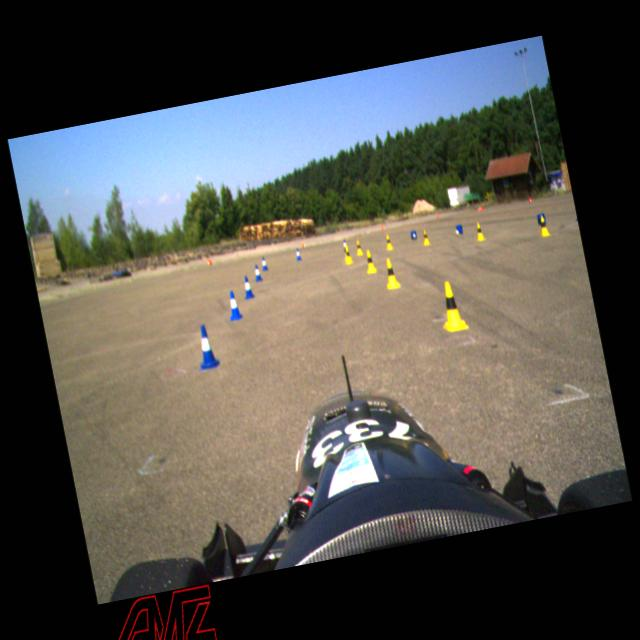blue_cone: (192, 322, 221, 370), (224, 289, 242, 321), (241, 274, 254, 298), (252, 263, 262, 281), (260, 256, 269, 271), (294, 248, 302, 262), (342, 239, 349, 253)
orange_cone: (476, 205, 484, 213), (206, 258, 212, 266), (302, 242, 306, 248), (382, 224, 386, 230), (528, 198, 532, 204), (436, 213, 439, 218)
yellow_cone: (436, 280, 469, 334), (381, 257, 401, 291), (363, 249, 378, 275), (536, 214, 550, 238), (341, 241, 353, 265), (475, 221, 486, 241), (354, 238, 364, 254), (384, 234, 393, 250), (422, 230, 431, 243)
